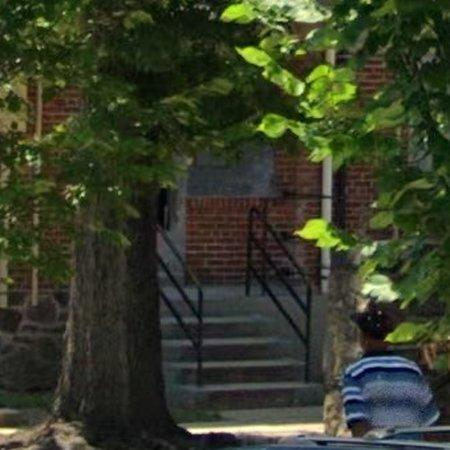stairs: (158, 233, 323, 410)
